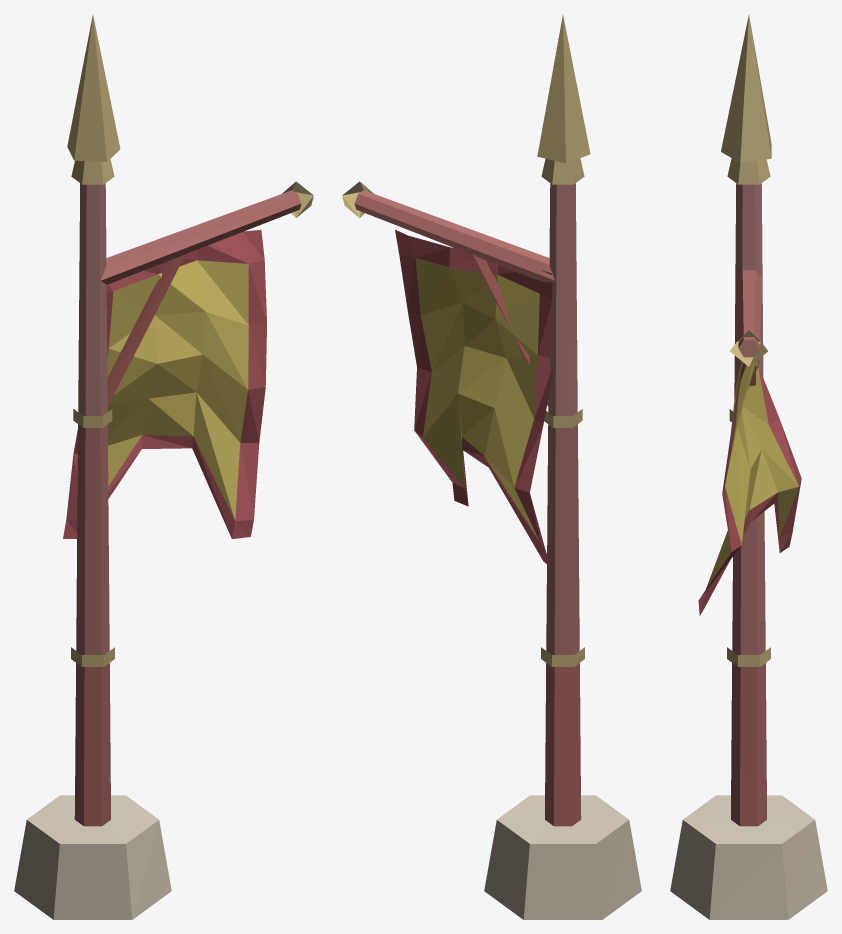
File: flag.swallowtail.jinyan__pole.ground.miaogan__armHang.glb
3 renders of one model, left to right at view 1: azimuth 30°, elevation 25°; view 2: azimuth 150°, elevation 25°; view 3: azimuth 270°, elevation 25°, orthographic.
Parts seen in each view (by area): view 1: flag.swallowtail.jinyan; view 2: flag.swallowtail.jinyan; view 3: flag.swallowtail.jinyan.
Part boxes in pixels (x1,y1,x2,y2): flag.swallowtail.jinyan: [14, 15, 313, 919]; flag.swallowtail.jinyan: [342, 15, 641, 919]; flag.swallowtail.jinyan: [670, 15, 827, 919].
Size of the model in its own units: 1.72 by 5.16 by 0.84.
